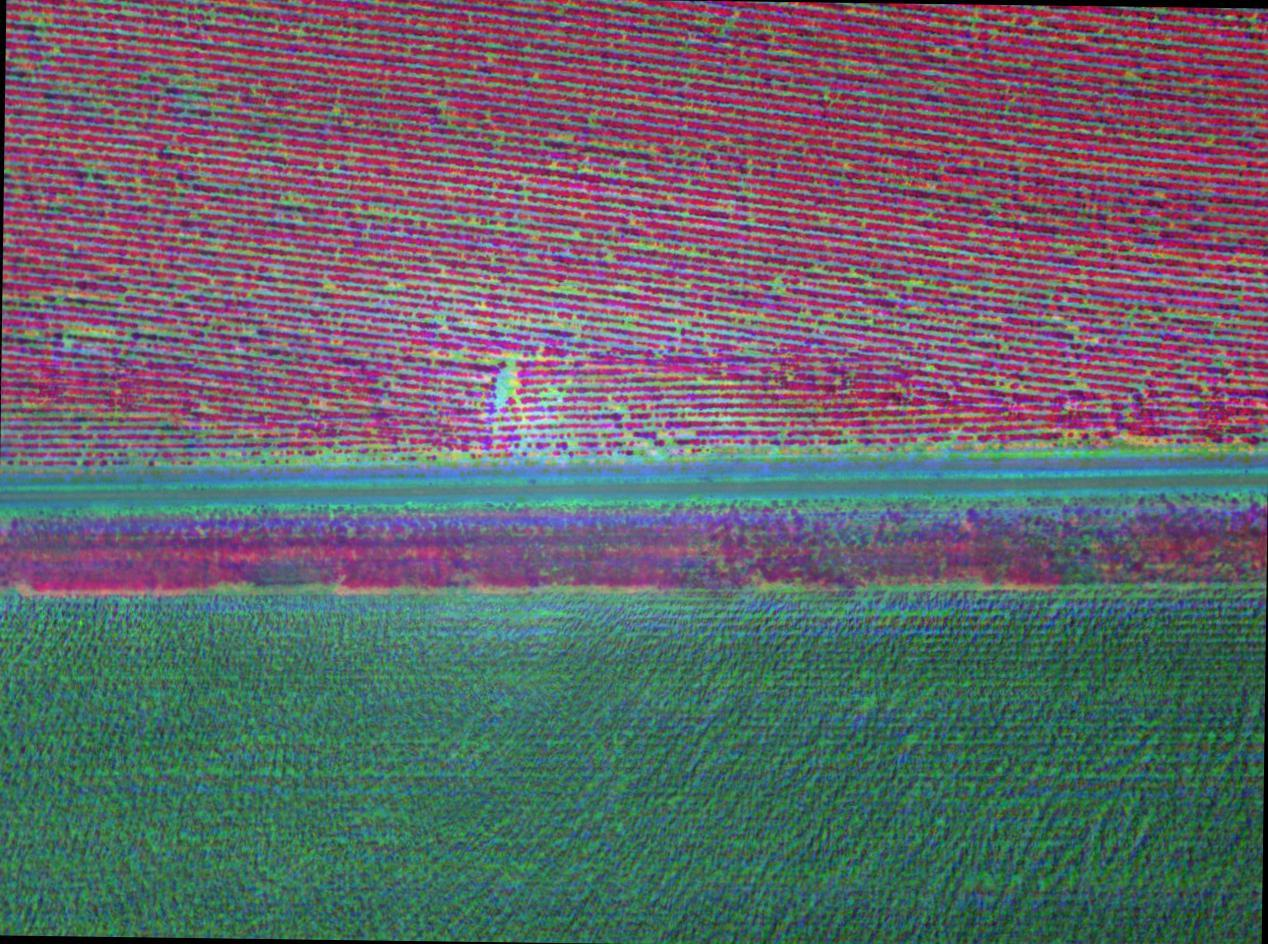dc: (501, 375, 512, 389), (772, 282, 782, 293), (64, 335, 71, 346), (564, 283, 573, 290)
